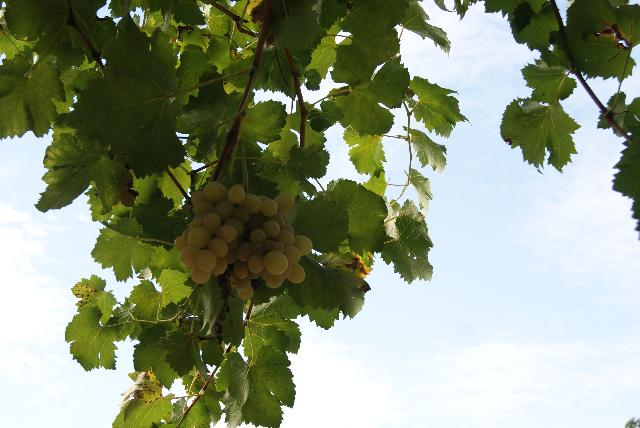grapes: (174, 181, 264, 284), (234, 192, 312, 288)
